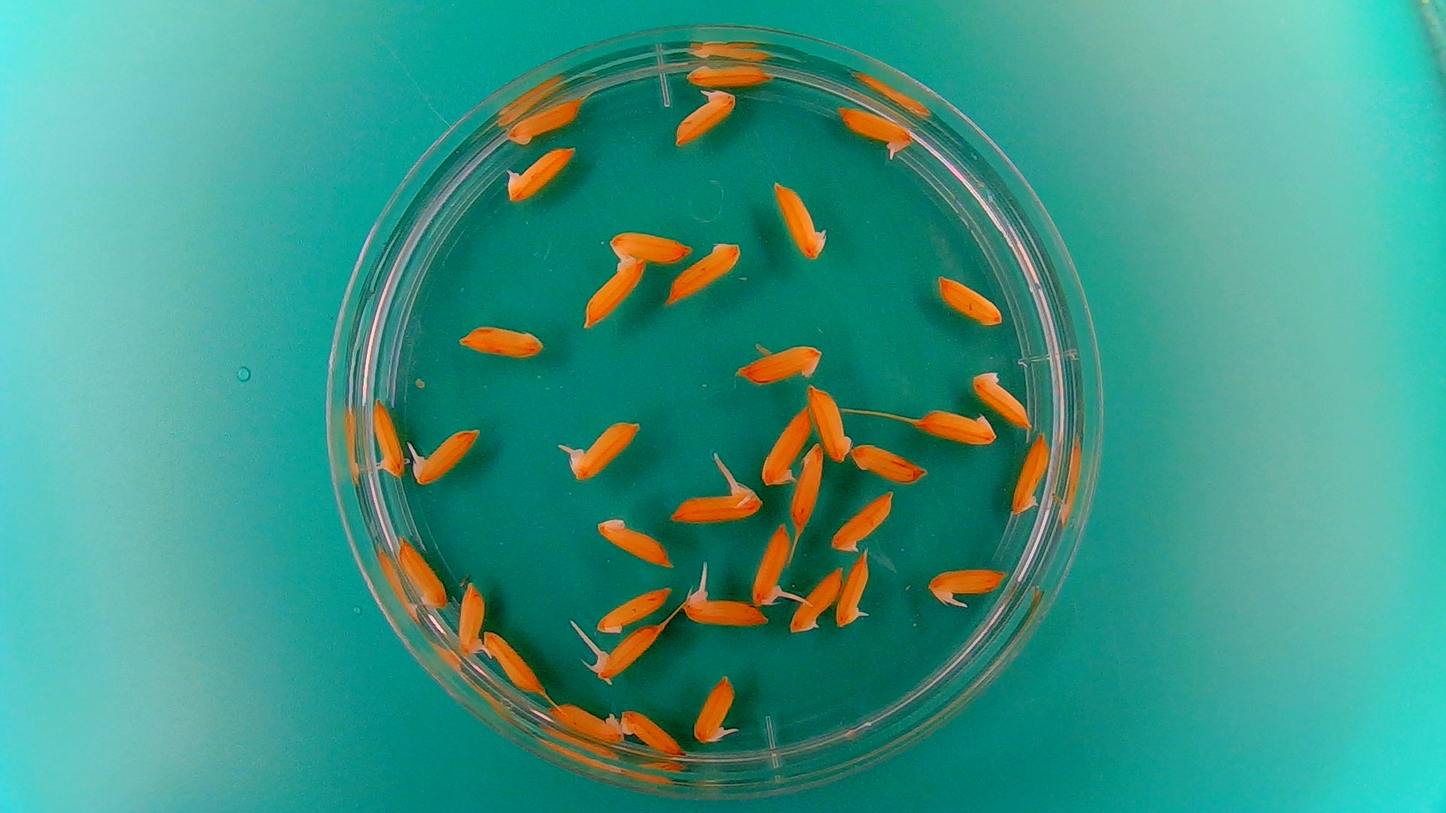no: (593, 513, 677, 571), (664, 243, 740, 306), (771, 178, 826, 262), (481, 628, 545, 699), (581, 257, 648, 324), (829, 489, 897, 555), (394, 534, 450, 611), (505, 94, 587, 145), (969, 367, 1034, 431), (593, 583, 676, 633), (735, 339, 825, 385), (934, 273, 1005, 330), (789, 565, 846, 634), (806, 381, 852, 466), (618, 706, 688, 760), (456, 320, 546, 361), (1009, 430, 1051, 516), (850, 440, 928, 485), (915, 406, 999, 447), (548, 700, 624, 745), (791, 438, 826, 534), (368, 395, 406, 481), (607, 229, 694, 266), (682, 61, 770, 89)
yes: (593, 621, 666, 685), (758, 403, 813, 486), (671, 483, 765, 529), (571, 421, 639, 481), (749, 520, 795, 607), (412, 428, 479, 486), (507, 145, 570, 204), (838, 107, 915, 155), (673, 90, 735, 146), (928, 564, 1011, 604), (691, 673, 734, 747), (685, 592, 768, 629), (454, 583, 493, 658), (835, 552, 872, 630)
